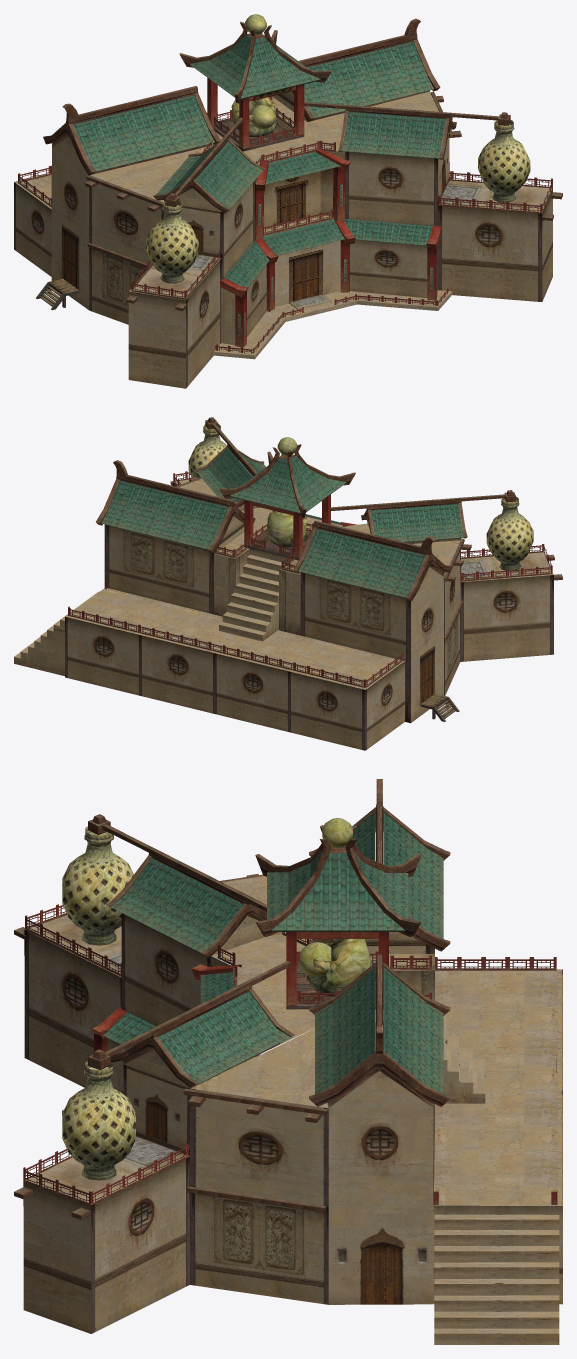
Rendered from w_cd_acce.glb.
The picture shows the model from 3 angles, top to bottom: view 1: azimuth 30°, elevation 25°; view 2: azimuth 150°, elevation 25°; view 3: azimuth 270°, elevation 25°; orthographic projection. The views are drawn at different scales.
Parts seen in each view (by area): view 1: W_CD_acce_wall02, W_CD_acce_roof, W_CD_acce_wall01, W_CD_acce_wall03, W_CD_acce_roof_al, W_CD_acce_cera, W_CD_acce_floor, W_CD_acce_sphe, W_CD_acce_man, W_CD_acce_dan01; view 2: W_CD_acce_wall02, W_CD_acce_roof, W_CD_acce_wall01, W_CD_acce_roof_al, W_CD_acce_wall03, W_CD_acce_cera, W_CD_acce_man, W_CD_acce_floor; view 3: W_CD_acce_wall02, W_CD_acce_roof, W_CD_acce_wall01, W_CD_acce_wall03, W_CD_acce_cera, W_CD_acce_roof_al, W_CD_acce_man, W_CD_acce_sphe, W_CD_acce_floor.
Boxes of the visible parts, box(x1,y1,x2,y2) form: W_CD_acce_wall02: box(14, 91, 552, 388); W_CD_acce_roof: box(43, 18, 562, 347); W_CD_acce_wall01: box(51, 91, 450, 344); W_CD_acce_wall03: box(51, 137, 164, 265); W_CD_acce_roof_al: box(18, 108, 552, 353); W_CD_acce_cera: box(146, 124, 530, 283); W_CD_acce_floor: box(212, 114, 304, 151); W_CD_acce_sphe: box(245, 14, 275, 128); W_CD_acce_man: box(231, 97, 277, 137); W_CD_acce_dan01: box(39, 278, 78, 306); W_CD_acce_wall02: box(65, 479, 553, 750); W_CD_acce_roof: box(96, 417, 562, 640); W_CD_acce_wall01: box(14, 504, 443, 722); W_CD_acce_roof_al: box(68, 471, 552, 687); W_CD_acce_wall03: box(411, 541, 461, 662); W_CD_acce_cera: box(188, 428, 533, 570); W_CD_acce_man: box(267, 511, 307, 547); W_CD_acce_floor: box(244, 529, 311, 560); W_CD_acce_wall02: box(23, 876, 562, 1333); W_CD_acce_roof: box(14, 779, 450, 1219); W_CD_acce_wall01: box(123, 916, 559, 1344); W_CD_acce_wall03: box(190, 1071, 433, 1206); W_CD_acce_cera: box(62, 832, 135, 1180); W_CD_acce_roof_al: box(23, 904, 557, 1205); W_CD_acce_man: box(306, 939, 372, 995); W_CD_acce_sphe: box(299, 818, 352, 976); W_CD_acce_floor: box(286, 962, 383, 1009).
Bounding box in the file's own units: 36.77 × 19.86 × 27.01.
Materials: 12 (12 with a texture image).
